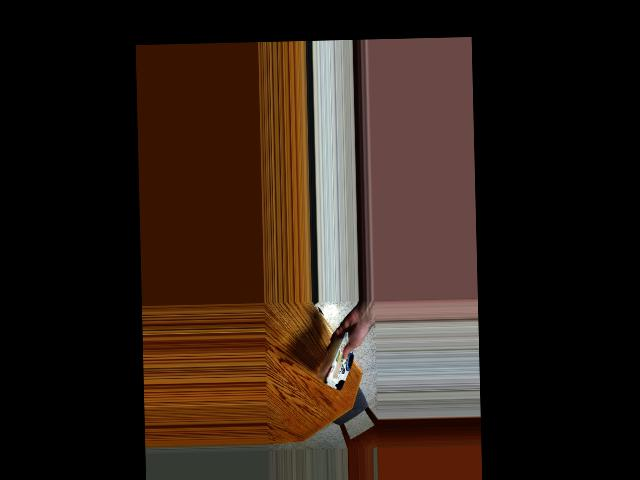cheese: (317, 340, 363, 388)
